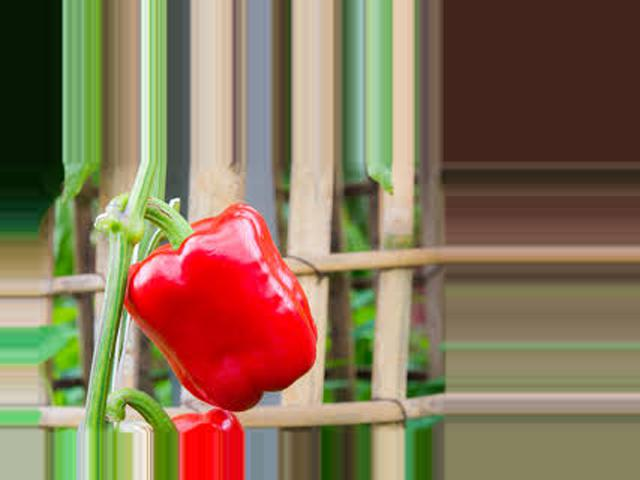bell_pepper: (109, 203, 330, 407)
